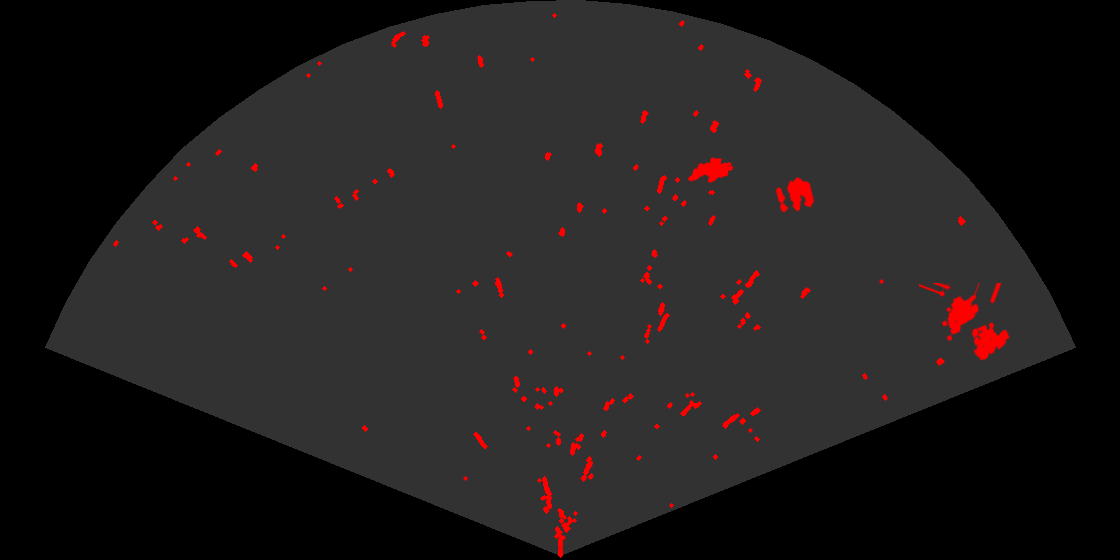AUV: (686, 156, 735, 184)
ball: (774, 176, 816, 214)
cage: (919, 283, 1012, 362)
